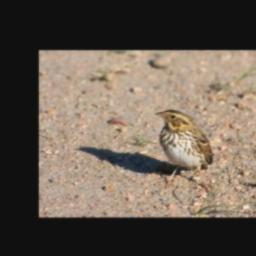Sparrow: (152, 107, 215, 193)
